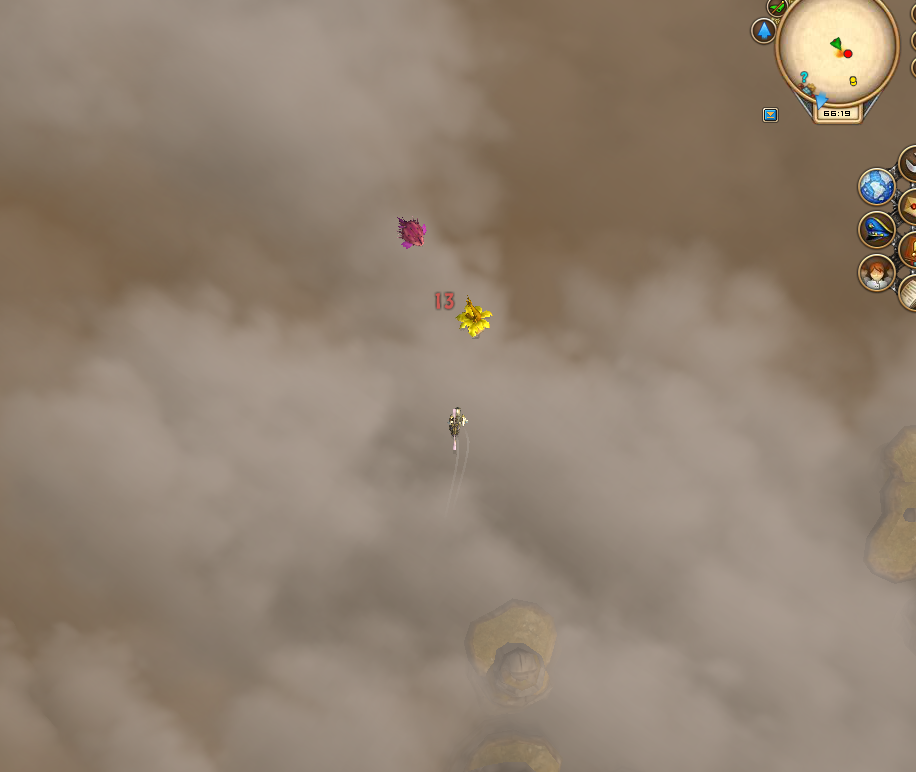dandelion-empty: (450, 290, 497, 344)
